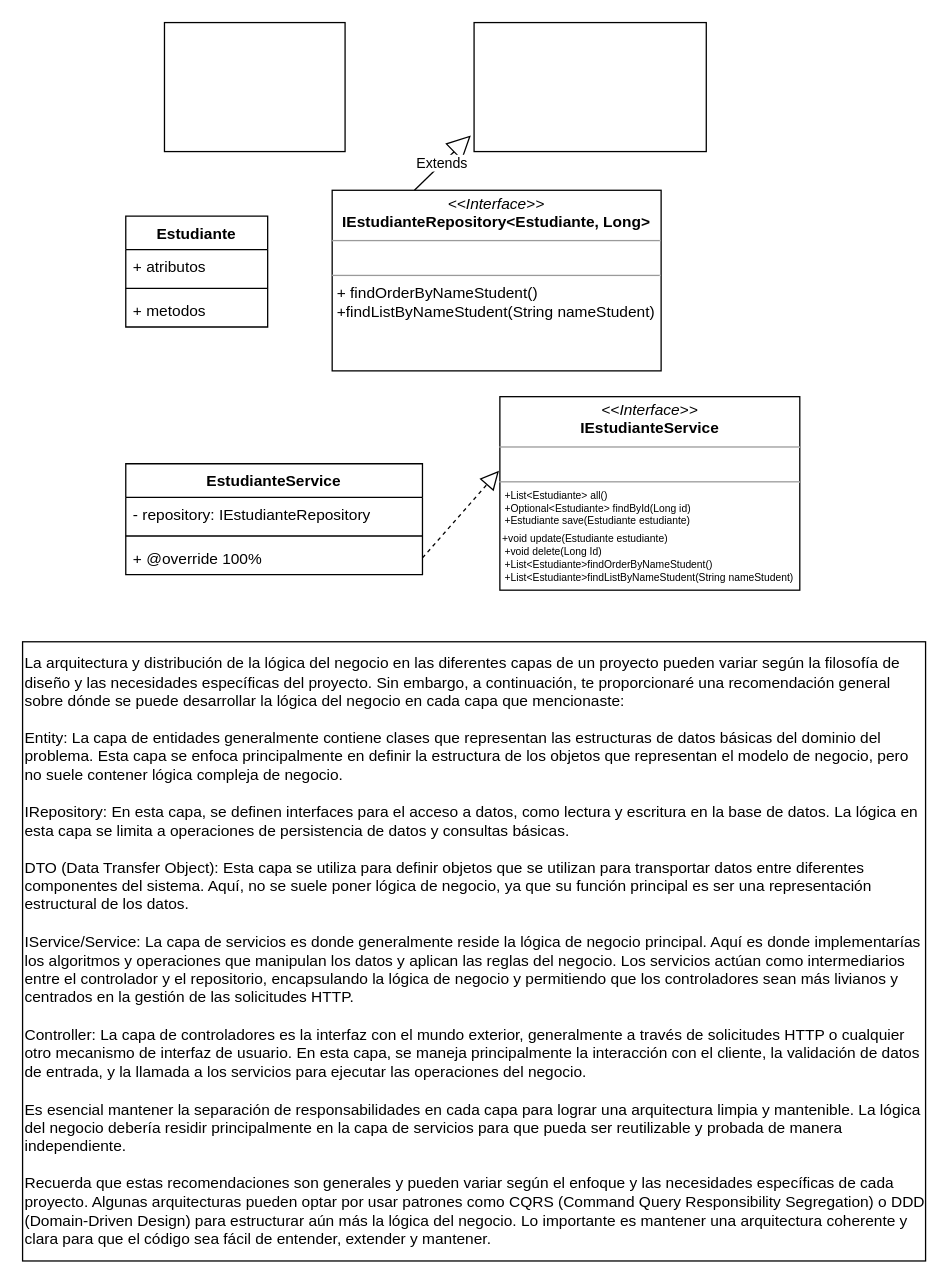
This 948x1284 diagram has some shape labels left out. Each missing label, with the centre of its shape:
"1. Entity 2. Repository 3. IService 4. Service 5. Controller Proyectado DTO" belongs at point (254, 86).
"<<Interface>> JpaRepository + + method" belongs at point (589, 86).
